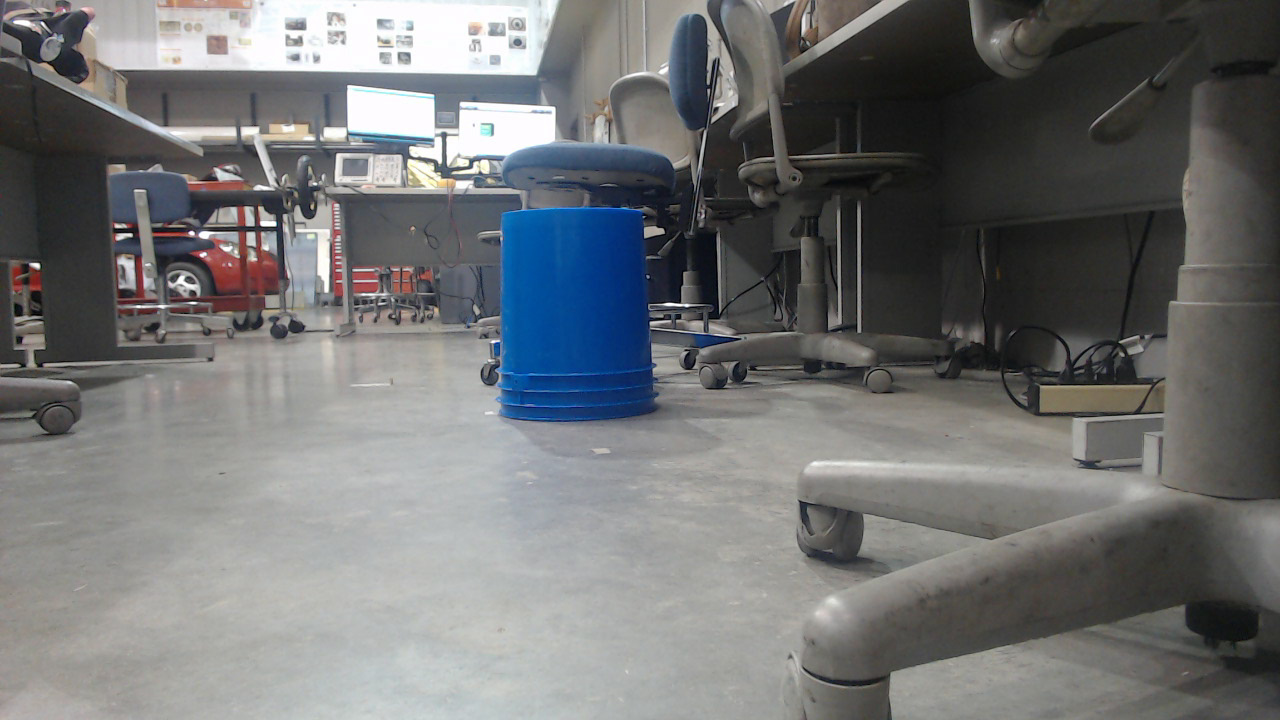blue_bucket: (496, 208, 667, 431)
